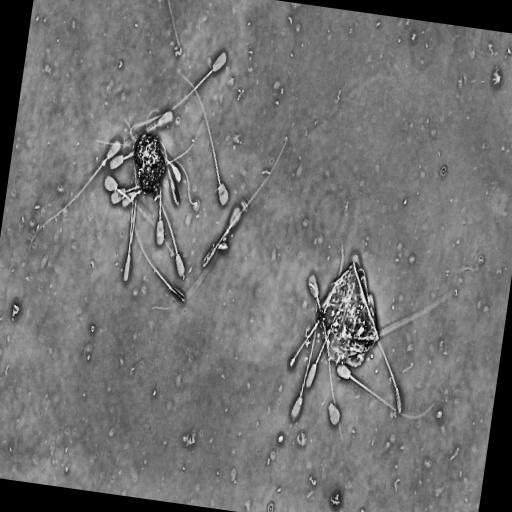dirt-particles: (316, 250, 382, 370), (132, 131, 168, 198)
loose-head: (326, 400, 342, 429)
loose-tail: (287, 239, 346, 370), (159, 143, 200, 211), (163, 0, 184, 51), (129, 161, 138, 247)
normal: (26, 136, 123, 259), (176, 65, 232, 210), (137, 50, 228, 129), (104, 175, 185, 259), (307, 273, 344, 444), (336, 361, 438, 422), (289, 274, 319, 423), (303, 303, 344, 391), (155, 194, 188, 280), (377, 338, 405, 416), (155, 183, 166, 248)
